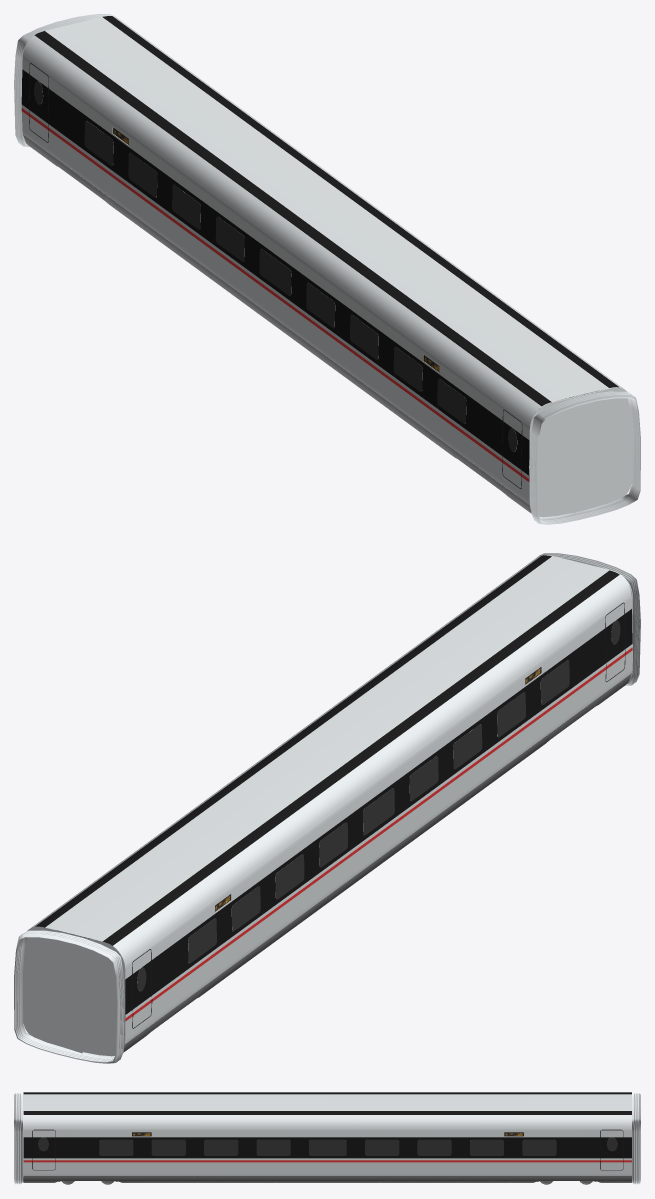
The model's file is 高铁车厢.fbx.
3 views of the same model, one above another, from view 1: azimuth 30°, elevation 25°; view 2: azimuth 150°, elevation 25°; view 3: azimuth 270°, elevation 25° (orthographic). The views are drawn at different scales.
Visible parts, largest first — view 1: 高铁车厢_车体; view 2: 高铁车厢_车体; view 3: 高铁车厢_车体.
Part boxes in pixels (x1=…): 高铁车厢_车体: x1=14, y1=14, x2=640, y2=524; 高铁车厢_车体: x1=14, y1=553, x2=640, y2=1063; 高铁车厢_车体: x1=14, y1=1092, x2=640, y2=1184.
Bounding box in the file's own units: 3.53 × 4.01 × 30.
